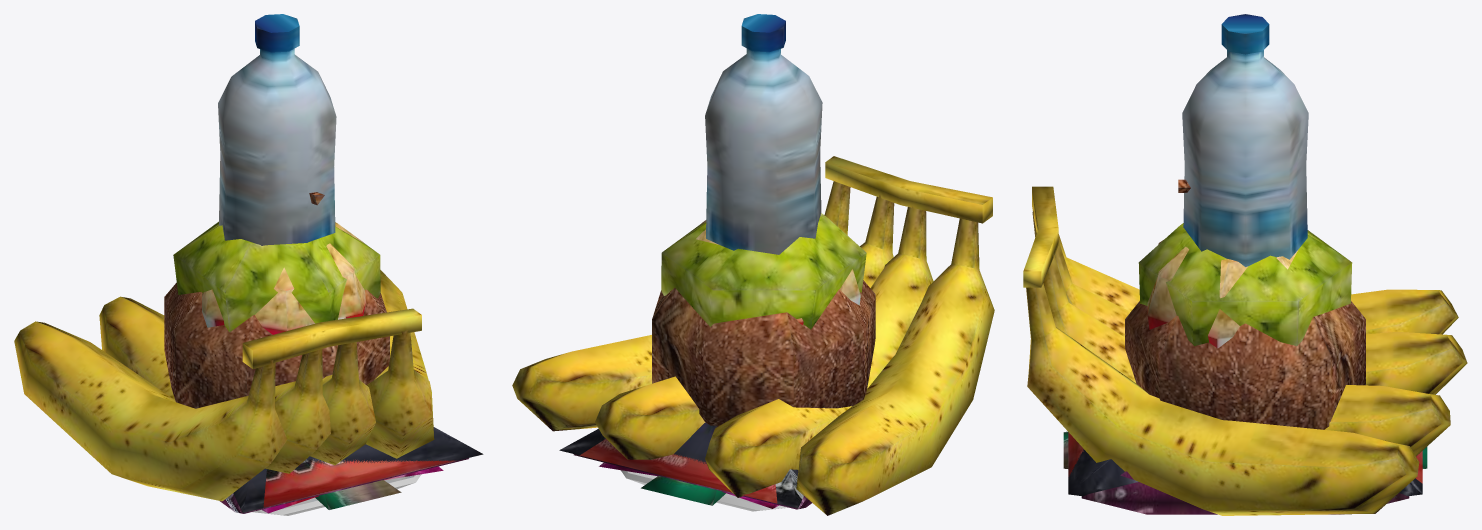
File: foods.glb
3 renders of one model, left to right at view 1: azimuth 30°, elevation 25°; view 2: azimuth 150°, elevation 25°; view 3: azimuth 270°, elevation 25°, orthographic. The views are drawn at different scales.
Parts seen in each view (by area): view 1: banana, water, grapes, coconut, chips, popcorn, chips_c, cookie_pack, flat_bag, biscuits; view 2: banana, water, coconut, grapes, chips, chips_c, cookie_pack, flat_bag, popcorn; view 3: banana, water, coconut, grapes, popcorn, biscuits, chips_c, chips.
Boxes of the visible parts, x1,y1,x2,y2 form: banana: (14,270,434,501); water: (218,14,336,245); grapes: (173,192,380,332); coconut: (164,283,389,408); chips: (263,458,456,507); popcorn: (202,222,365,334); chips_c: (233,427,483,512); cookie_pack: (315,480,401,509); flat_bag: (252,474,421,515); biscuits: (220,458,468,513); banana: (512,156,994,515); water: (705,14,822,254); coconut: (652,280,875,425); grapes: (661,213,866,329); chips: (580,422,777,503); chips_c: (559,422,803,508); cookie_pack: (641,476,725,505); flat_bag: (621,470,787,511); popcorn: (696,220,860,324); banana: (1023,186,1467,515); water: (1182,14,1308,266); coconut: (1125,301,1365,429); grapes: (1138,179,1352,346); popcorn: (1147,240,1297,348); biscuits: (1081,471,1409,514); chips_c: (1068,449,1422,496); chips: (1068,432,1422,483).
Bounding box in the file's own units: 0.2533 × 0.2956 × 0.2673.
7 materials, 7 textured.
